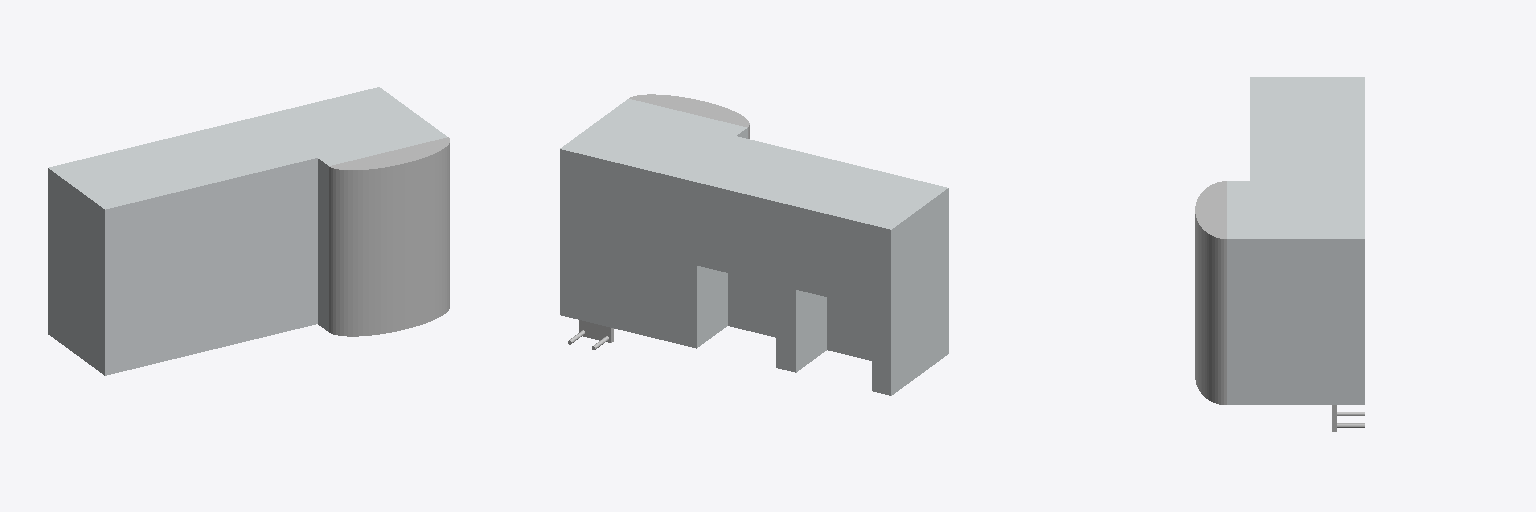
File: tinker 13.obj
The picture shows the model from 3 angles: view 1: azimuth 30°, elevation 25°; view 2: azimuth 150°, elevation 25°; view 3: azimuth 270°, elevation 25°; orthographic projection.
Parts seen in each view (by area): view 1: obj_8, obj_1, obj_7; view 2: obj_8, obj_7, obj_1; view 3: obj_7, obj_8, obj_1.
Boxes of the visible parts, <box> form: obj_8: <box>48,116,317,375</box>; obj_1: <box>329,137,449,336</box>; obj_7: <box>261,87,446,331</box>; obj_8: <box>679,136,948,395</box>; obj_7: <box>560,99,747,343</box>; obj_1: <box>629,94,749,138</box>; obj_7: <box>1227,181,1364,404</box>; obj_8: <box>1250,77,1364,180</box>; obj_1: <box>1195,181,1226,404</box>.
Size of the model in its own units: 83.5 by 47 by 37.